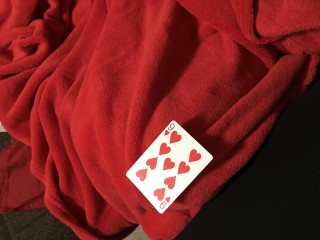NineOfHearts: (125, 120, 213, 215)
